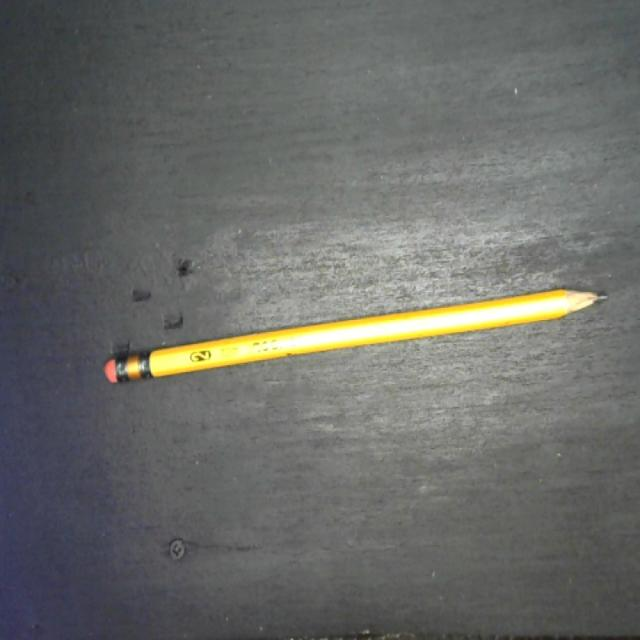biodegradable: (100, 280, 612, 389)
